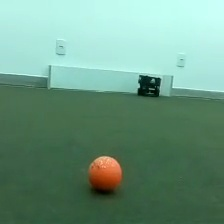ball: (84, 151, 124, 195)
goal: (46, 63, 174, 99)
robot: (136, 71, 162, 98)
